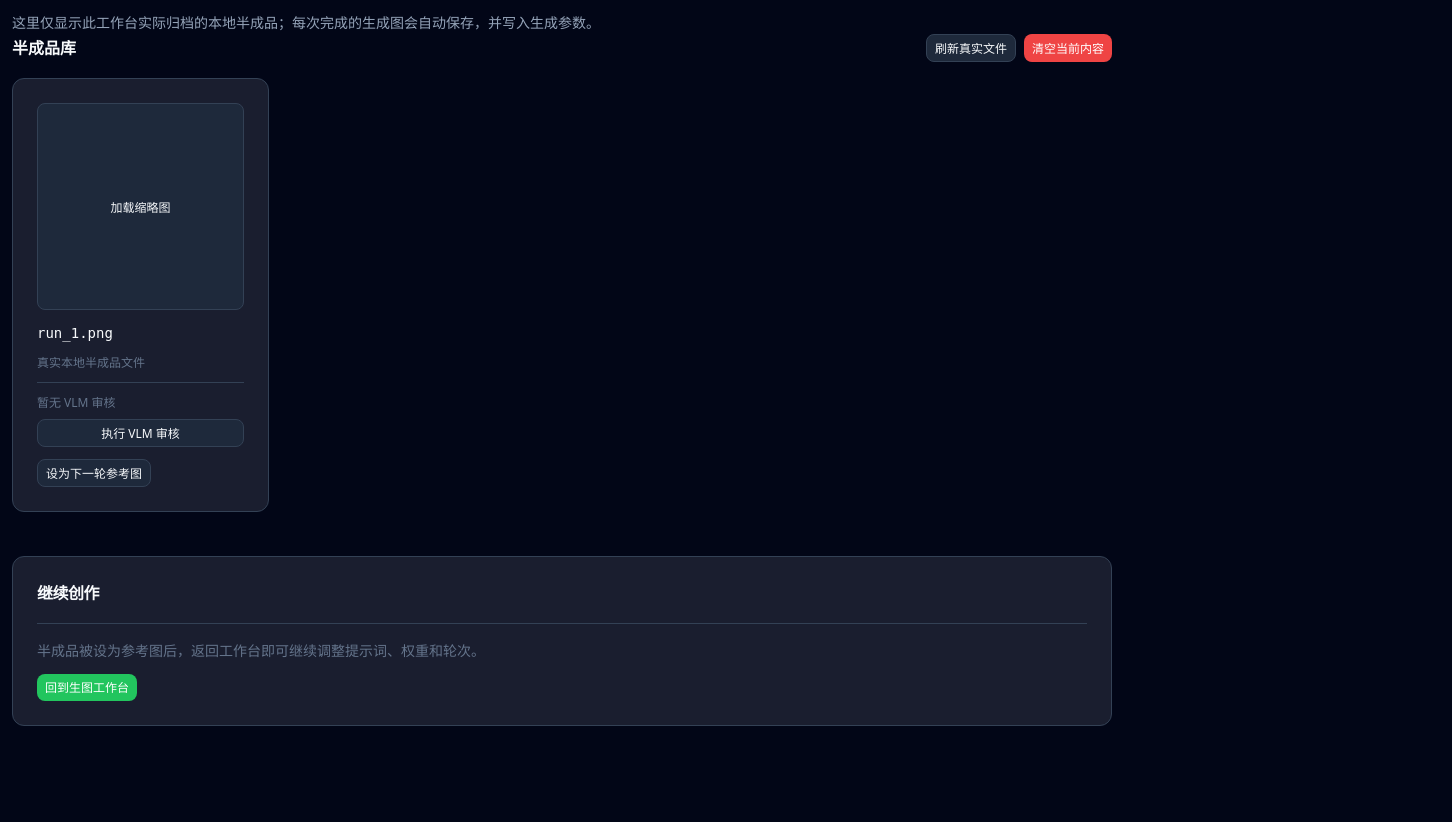
it: Library › shows only a returned VLM review and can request an audit for an archived image
Step 1. Click the button "执行 VLM 审核" → (140,433), box [37, 419, 244, 447]
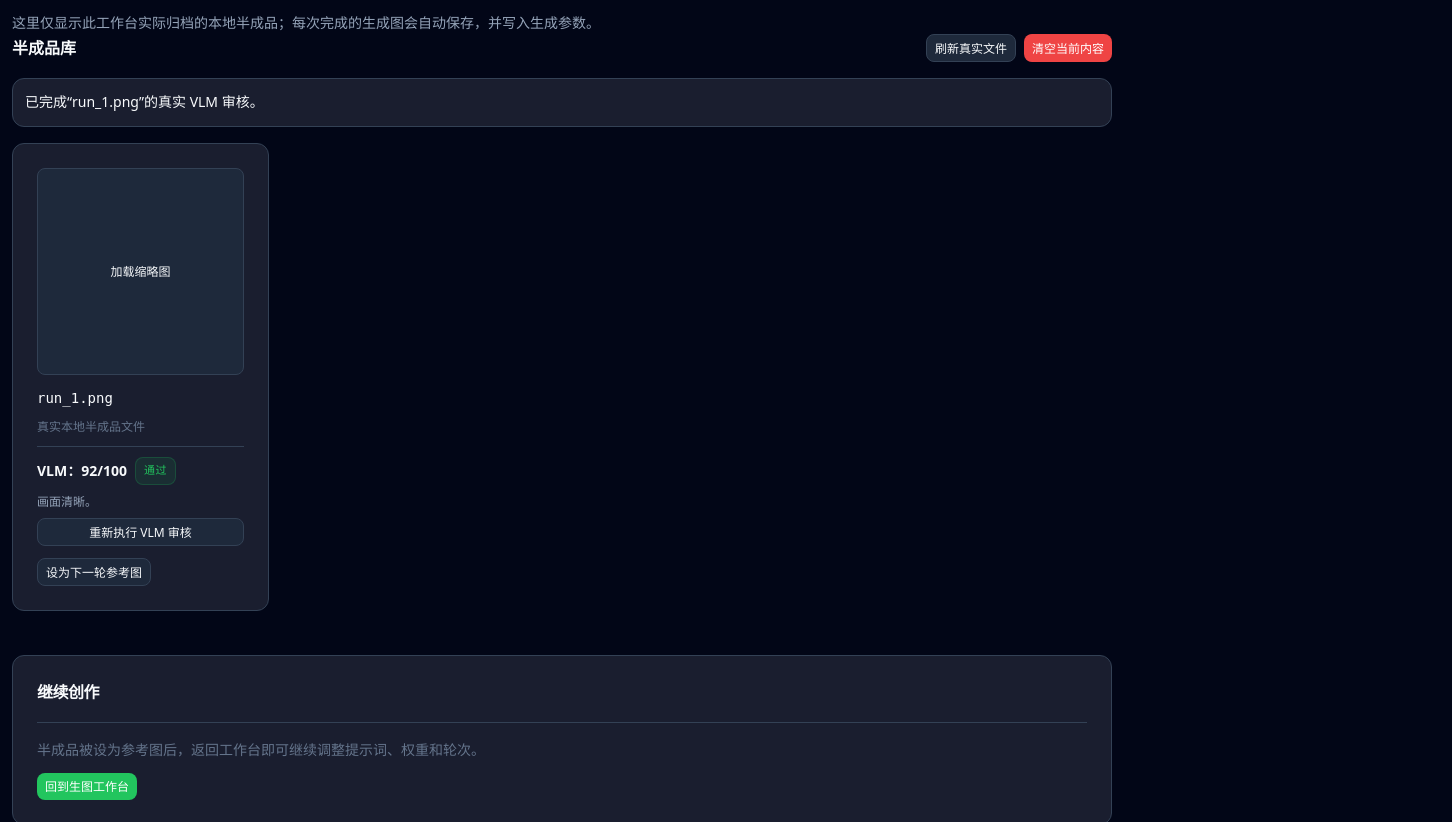
Expected: the text "VLM：92/100" is shown, [37, 460, 127, 482]
Expected: the text "画面清晰。" is shown, [37, 493, 97, 510]
